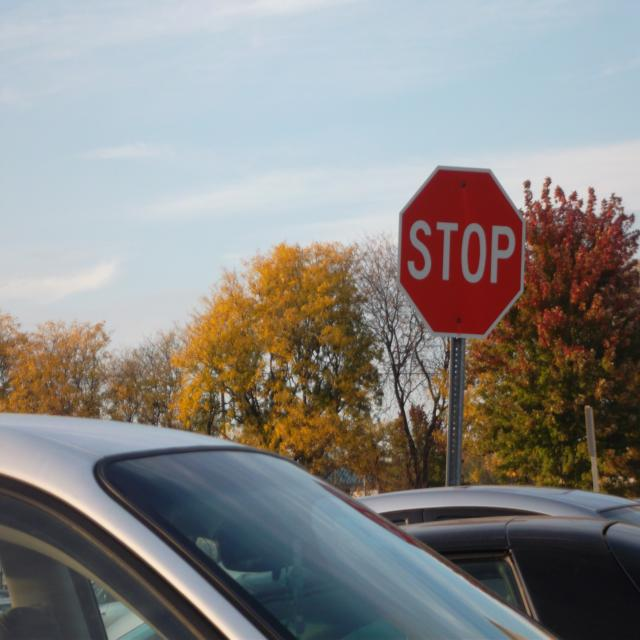stop: (395, 160, 529, 340)
